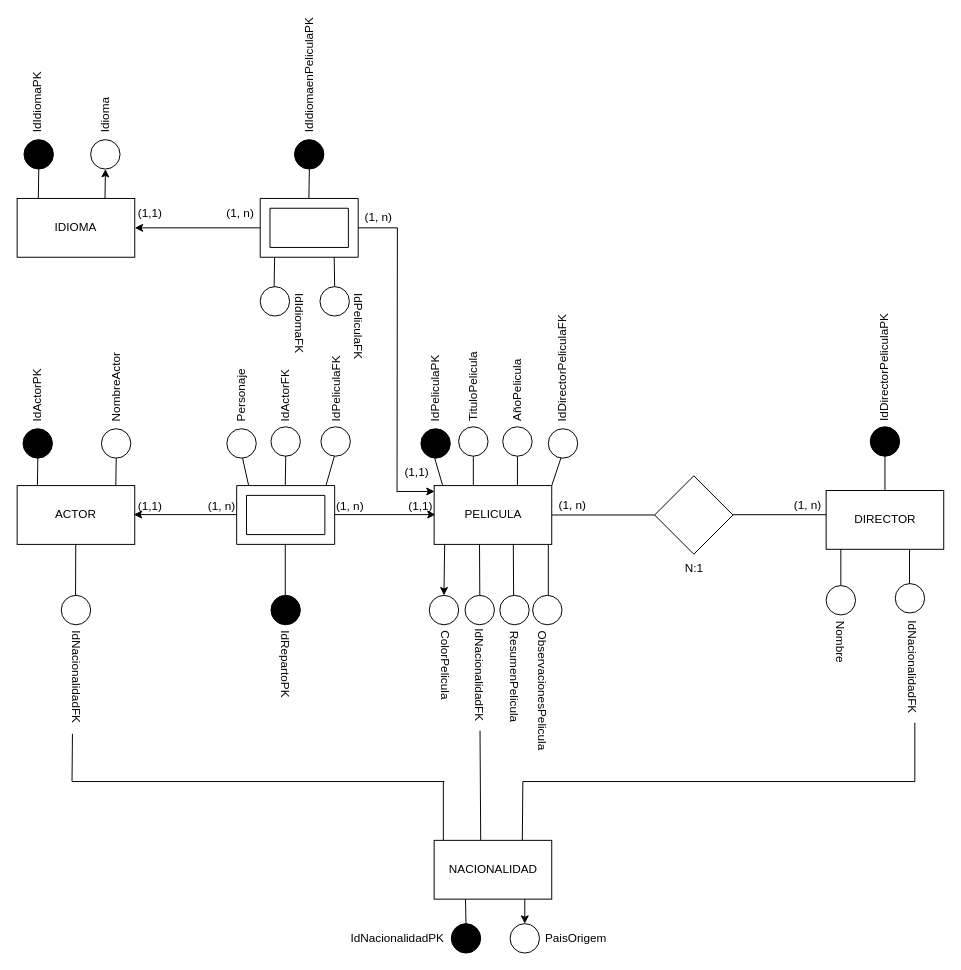
This 961x970 diagram has some shape labels left out. Here are the shapes that lost their labels. From the top down, the centre of each, then its label:
the point at 308,227: IDIOMA EN PELICULA
the point at 285,514: REPARTO
the point at 693,514: dirigir
